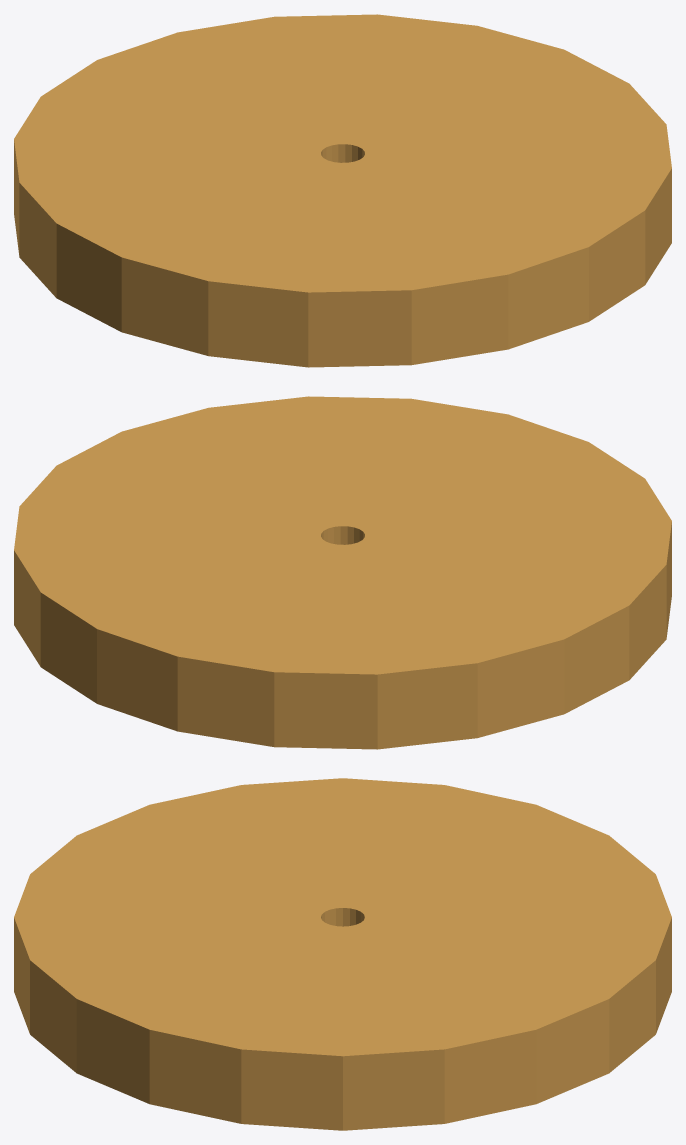
Rendered from Part D2_glb.glb.
3 renders of one model, top to bottom at view 1: azimuth 30°, elevation 25°; view 2: azimuth 150°, elevation 25°; view 3: azimuth 270°, elevation 25°, orthographic.
Visible parts, largest first — view 1: Mesh_Mesh_head_geo.001_lambert2SG.001; view 2: Mesh_Mesh_head_geo.001_lambert2SG.001; view 3: Mesh_Mesh_head_geo.001_lambert2SG.001.
Boxes of the visible parts, x1,y1,x2,y2 form: Mesh_Mesh_head_geo.001_lambert2SG.001: (14,14,671,367); Mesh_Mesh_head_geo.001_lambert2SG.001: (14,396,671,749); Mesh_Mesh_head_geo.001_lambert2SG.001: (14,778,671,1130).
Bounding box in the file's own units: 25.4 × 3.17 × 25.4.
